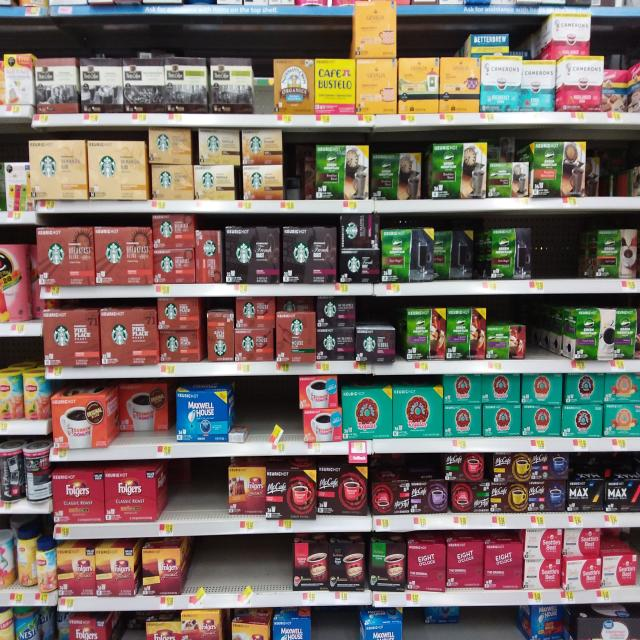void: (186, 536, 290, 593), (159, 459, 226, 519), (536, 213, 594, 278), (248, 377, 297, 441), (285, 129, 316, 198), (528, 300, 562, 360), (468, 611, 524, 640), (313, 608, 360, 640), (113, 611, 144, 640)
